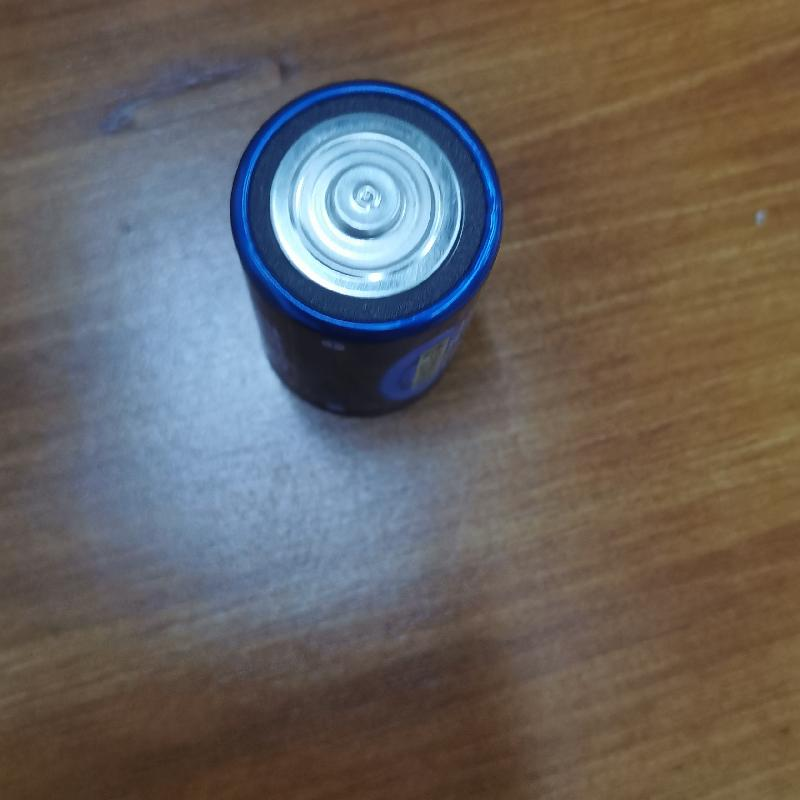battery: (225, 74, 503, 416)
